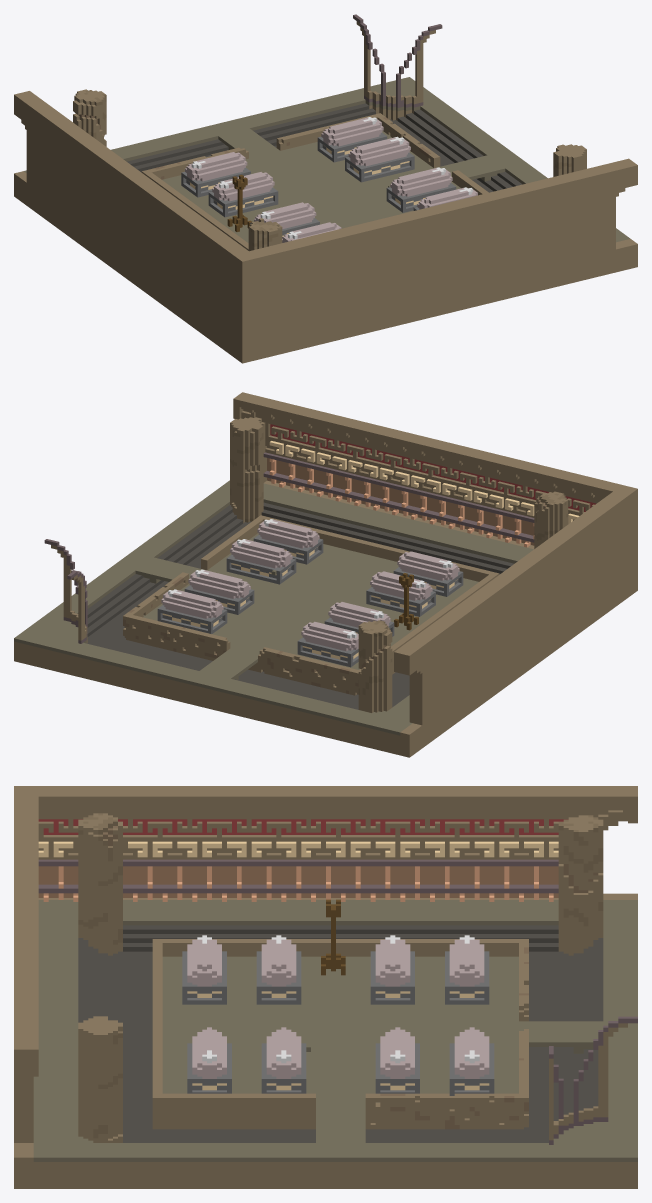
Rendered from CorridorCorner01-3.obj.
The picture shows the model from 3 angles, top to bottom: view 1: azimuth 30°, elevation 25°; view 2: azimuth 150°, elevation 25°; view 3: azimuth 270°, elevation 25°; orthographic projection. The views are drawn at different scales.
Size of the model in its own units: 12.6 by 3.1 by 12.6.
1 material, 1 textured.
